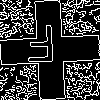F: (25, 25, 58, 72)
